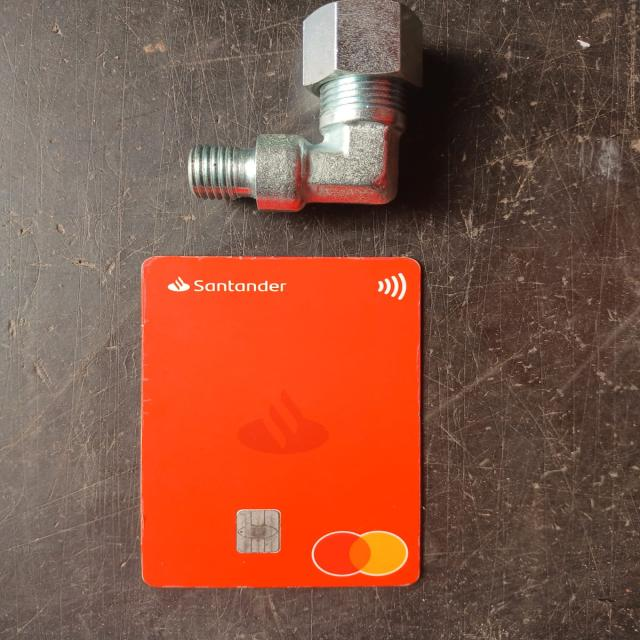cartao: (138, 255, 420, 588)
rosca_externa: (188, 0, 422, 211)
